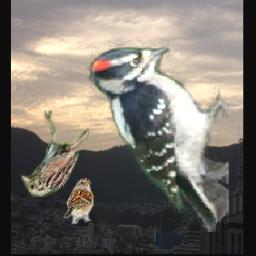Sparrow: (22, 110, 90, 197), (64, 178, 94, 224)
Woodpecker: (87, 41, 229, 233)
